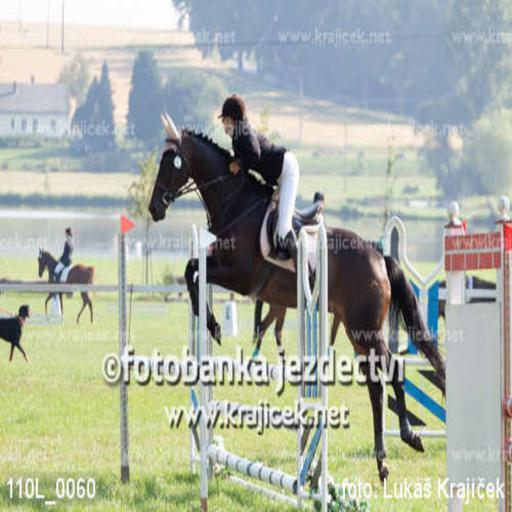horse: (146, 112, 448, 483), (34, 246, 94, 323)
